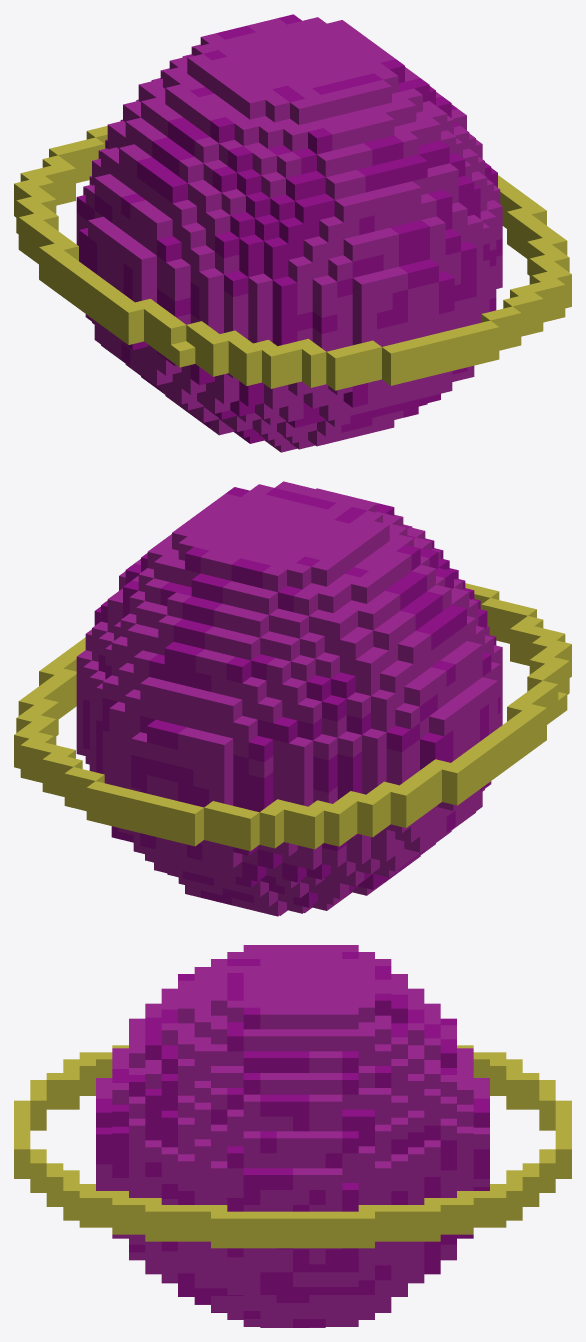
Rendered from planet_1.obj.
The picture shows the model from 3 angles, top to bottom: view 1: azimuth 30°, elevation 25°; view 2: azimuth 150°, elevation 25°; view 3: azimuth 270°, elevation 25°; orthographic projection. The views are drawn at different scales.
Bounding box in the file's own units: 27 × 22 × 34.
Materials: 1 (1 with a texture image).
